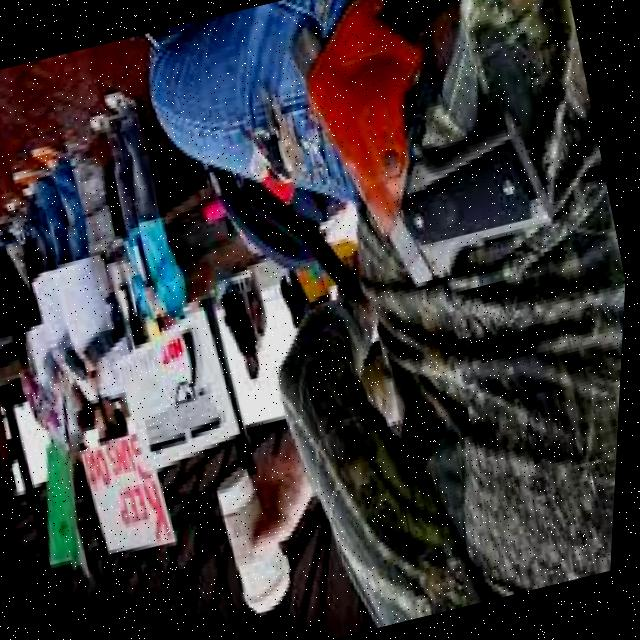pistol: (271, 0, 577, 305)
